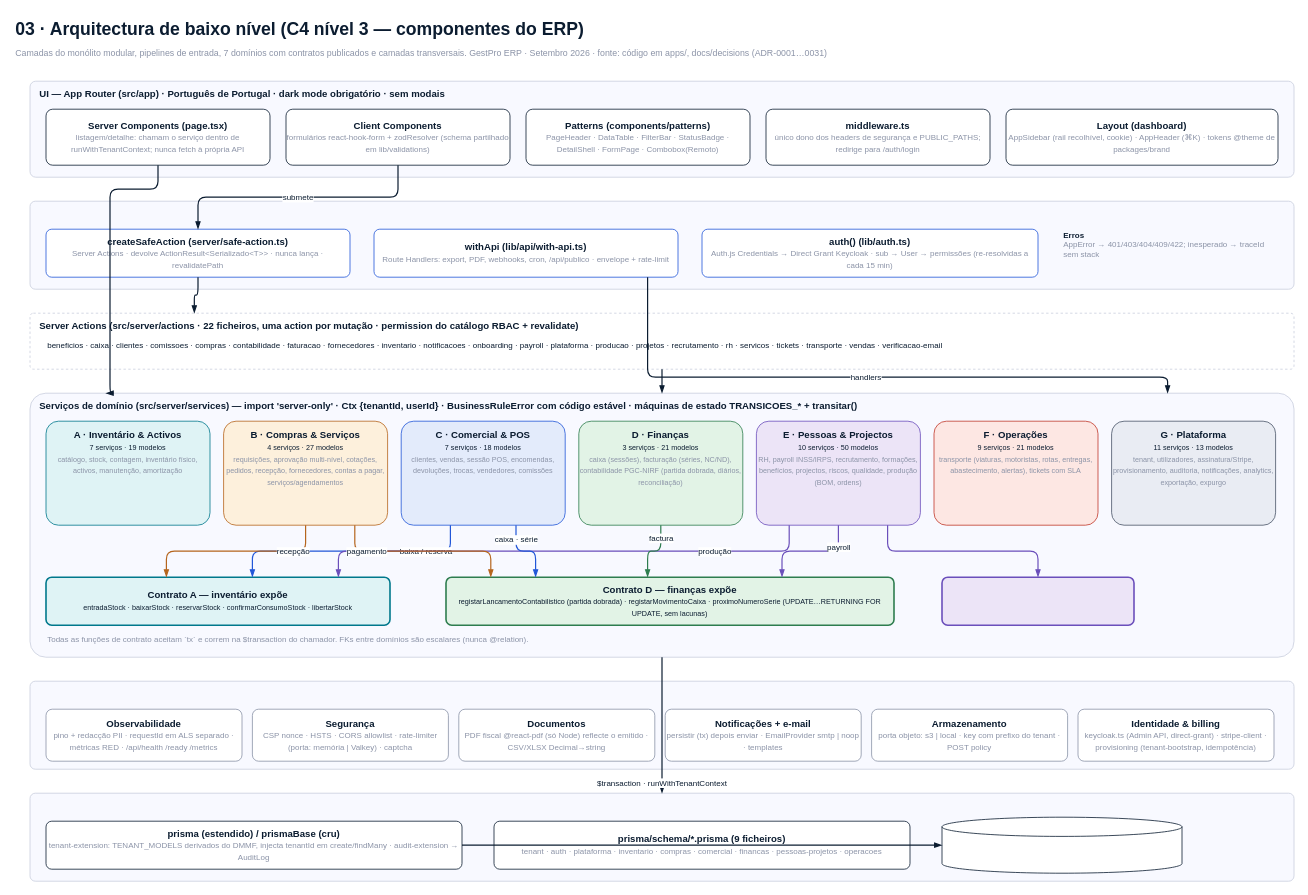
The diagram is 1308 pixels wide and 895 high, and some of its shapes have lost their labels. The box of each missing label's shape, as (x1, y1, x2, y2) in pixels:
Camadas transversais — envelopam, não alteram contratos: (29, 680, 1294, 769)
Contrato E linhasPayrollDeBeneficios (benefícios → payroll): (941, 576, 1134, 626)
Dados: (29, 792, 1294, 881)
Pipelines de entrada — sessão → permissão → Zod → contexto de tenant → handler: (29, 200, 1294, 289)
PostgreSQL 17 Decimal para dinheiro · append-only nos documentos: (941, 816, 1182, 873)
